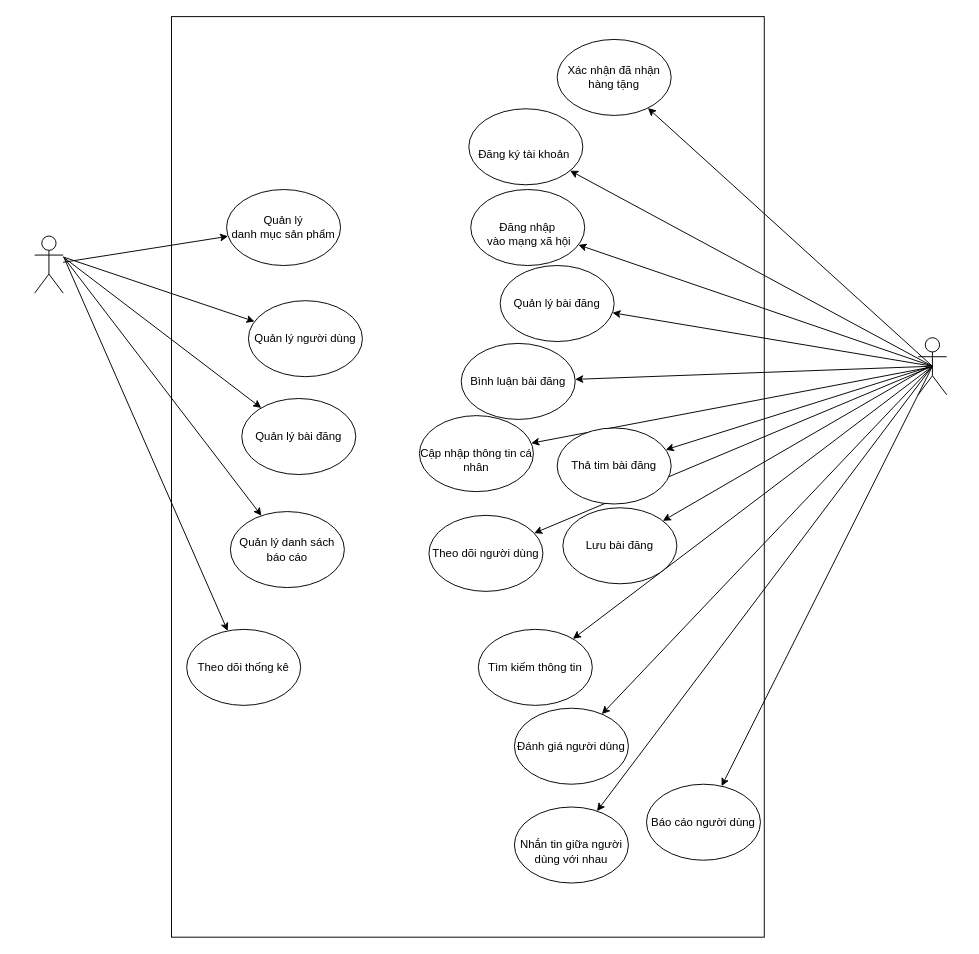
This 979x954 diagram has some shape labels left out. The shapes that lost their labels are listed below. From the top down, each one's box as (x1, y1, x2, y2) in pixels, then its label:
(34, 235, 63, 293): Quản trị viên
(917, 337, 947, 395): Người dùng
